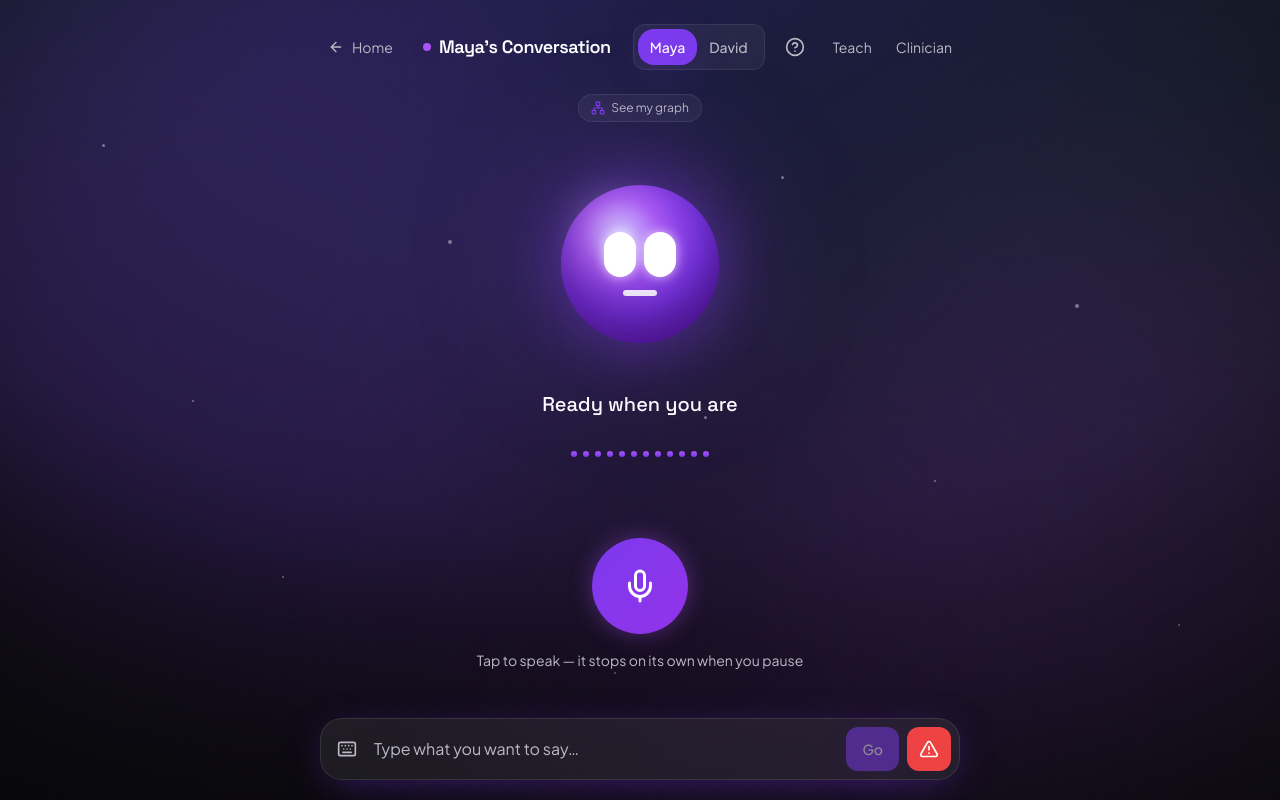
Test: ConversationCanvas › typing a request fetches and renders grounded candidates
Type "I want to" into the field labelled "Type what you want to say…" at (602, 749), box [365,727,838,771]
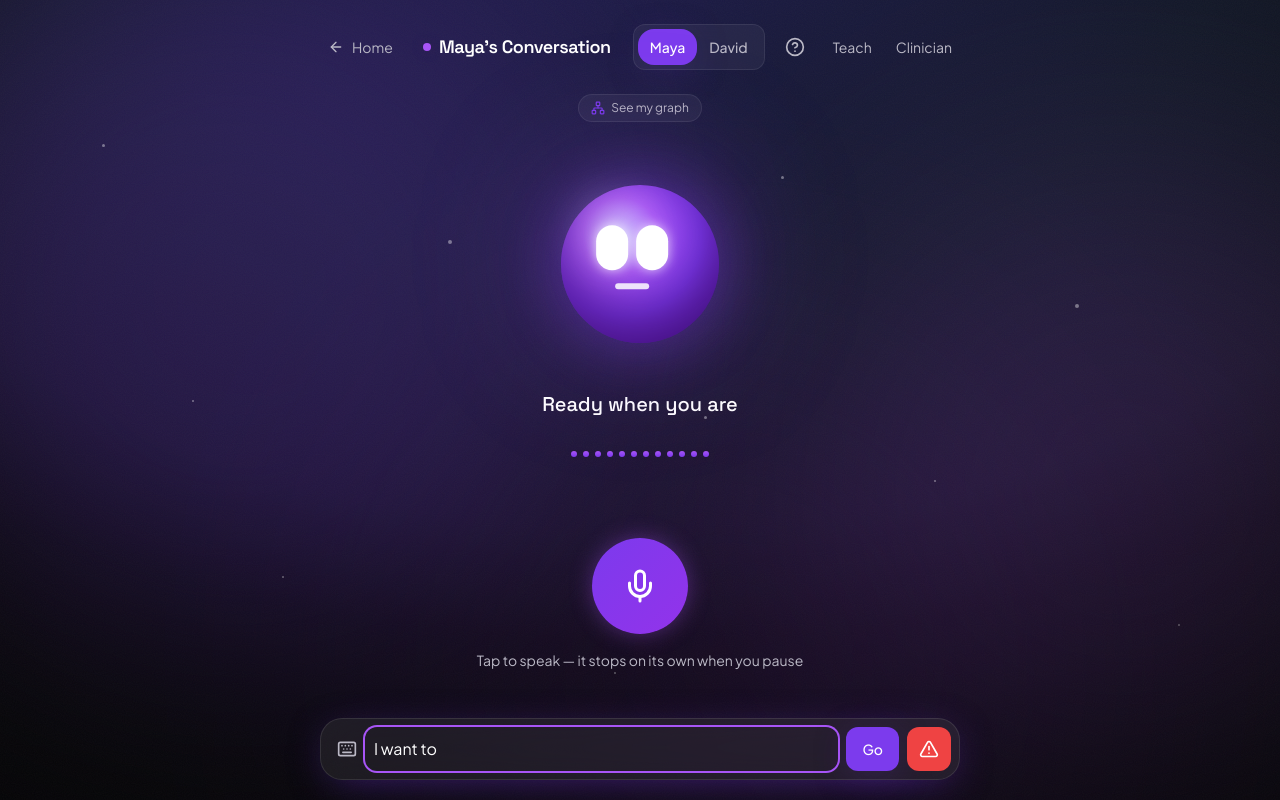
Click the button with aria-label "get suggestions" at (873, 749), box [846,727,899,771]
(page scrolled)
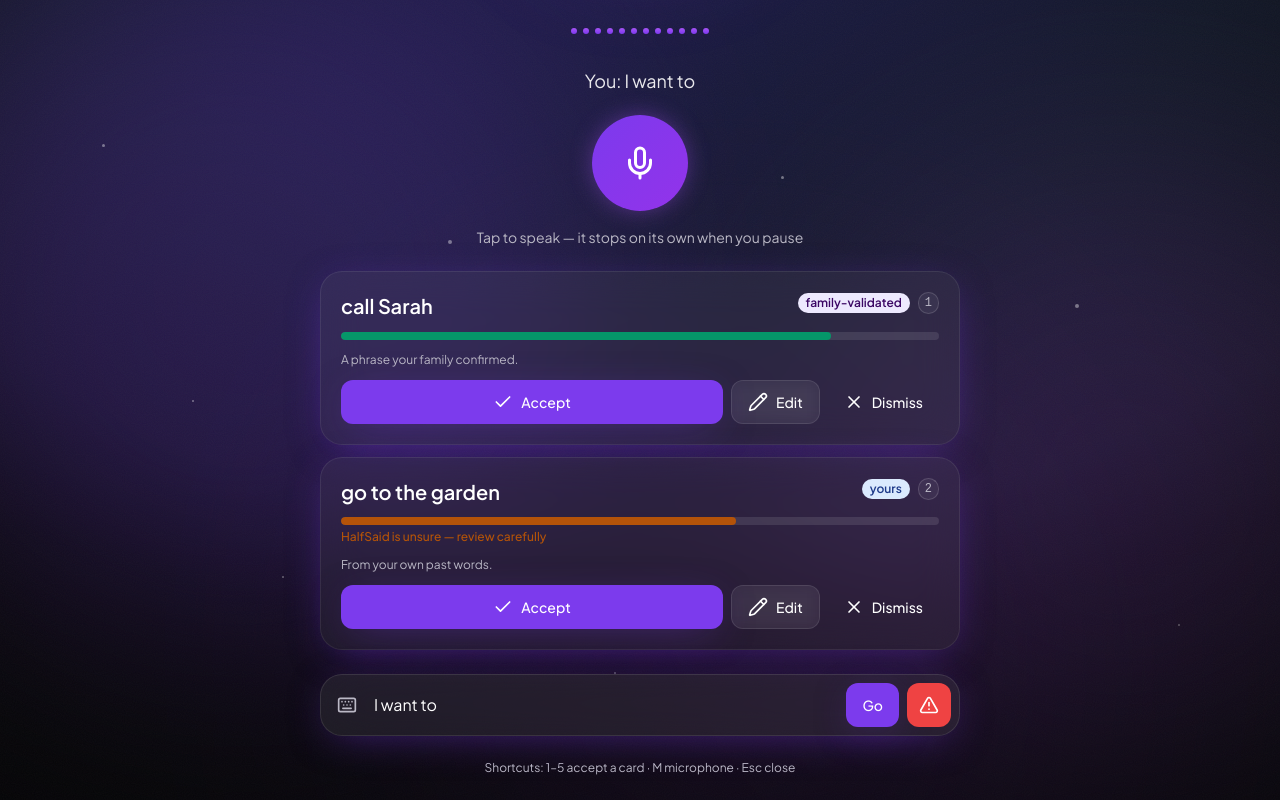
Result: the text "call Sarah" is shown at [341,292,433,320]
Result: the text "go to the garden" is shown at [341,478,500,505]
